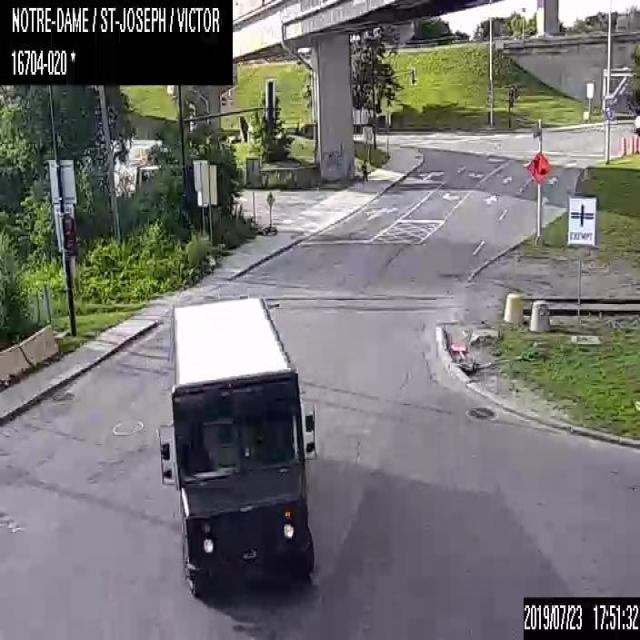construction: (526, 151, 551, 182), (629, 134, 634, 153), (621, 136, 625, 154), (635, 135, 639, 153)
pedestrian: (360, 158, 367, 182)
vehicle: (158, 296, 317, 598)
